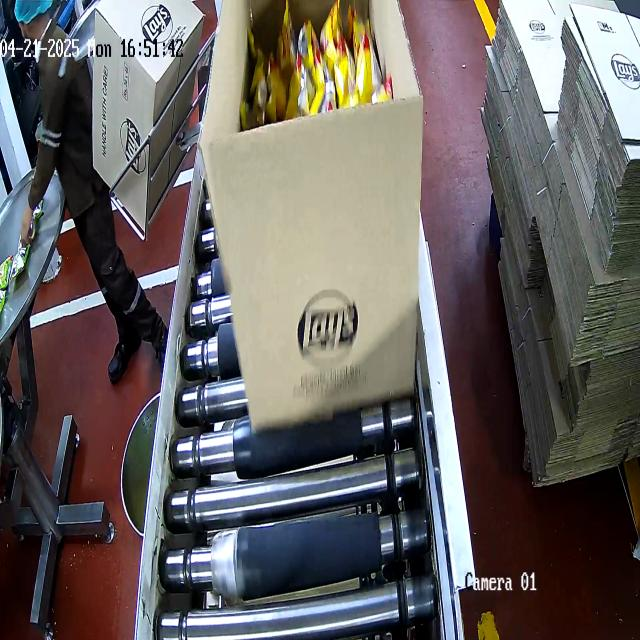SALTED: (241, 0, 394, 134)
